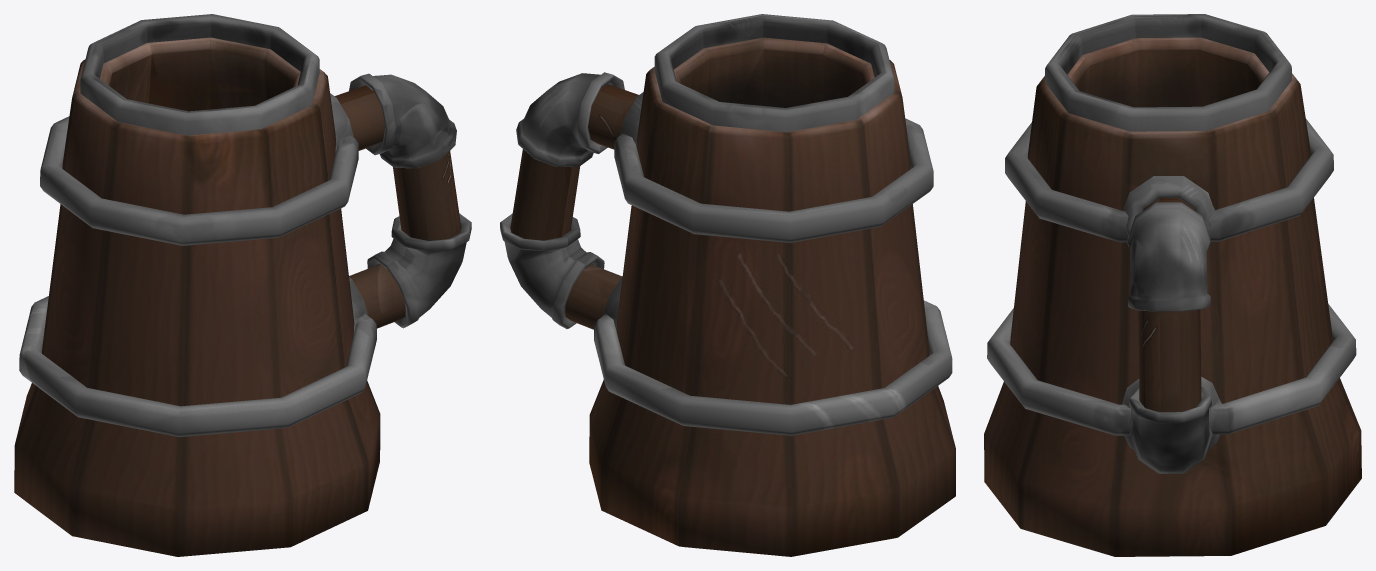
File: Stylized_Cup.fbx
3 renders of one model, left to right at view 1: azimuth 30°, elevation 25°; view 2: azimuth 150°, elevation 25°; view 3: azimuth 270°, elevation 25°, orthographic.
Visible parts, largest first — view 1: Cup_obj_cleaner_materialmerger_gles; view 2: Cup_obj_cleaner_materialmerger_gles; view 3: Cup_obj_cleaner_materialmerger_gles.
Part boxes in pixels (left/top/right/bottom): Cup_obj_cleaner_materialmerger_gles: left=14, top=14, right=471, bottom=556; Cup_obj_cleaner_materialmerger_gles: left=500, top=14, right=955, bottom=556; Cup_obj_cleaner_materialmerger_gles: left=984, top=14, right=1361, bottom=556.
Bounding box in the file's own units: 40.41 × 38.65 × 31.12.
3 materials, 3 textured.
